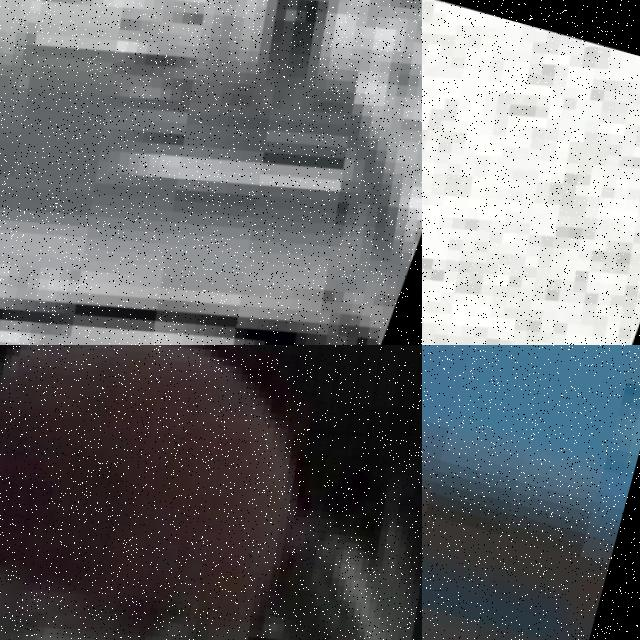0: (0, 0, 422, 345)
drone: (0, 345, 422, 640), (422, 0, 640, 345)
